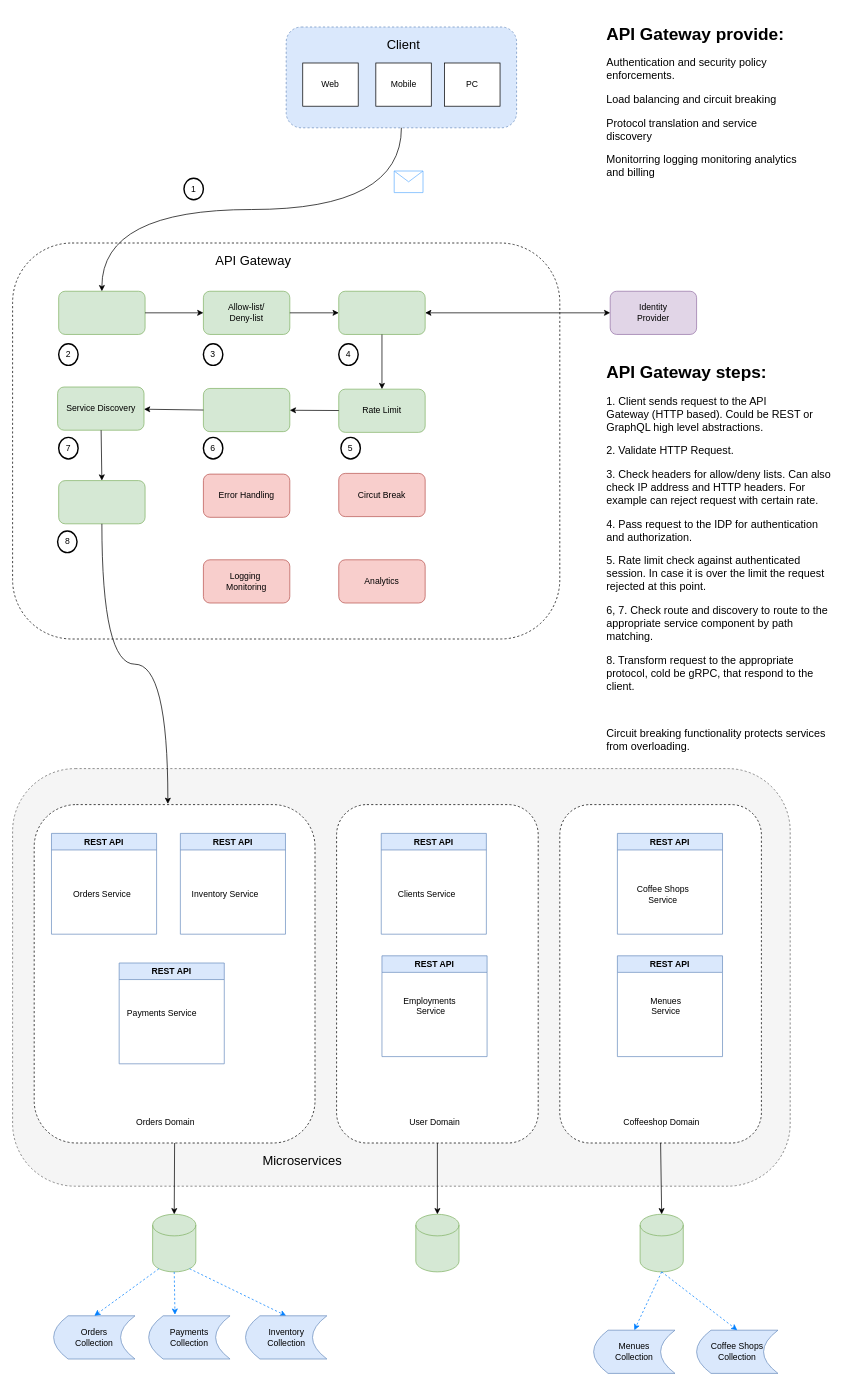
Some shapes in this 846 by 1386 pixel diagram are drawn without their labels. The centre of each missing label's shape, as x and y in pixels:
Authentication Authorization: pixel 381 312
DB Coffe Shop: pixel 661 1243
DB Orders: pixel 174 1243
DB Tenants: pixel 437 1243
Dynamic Routing: pixel 246 410
Http Request: pixel 408 181
Parameter Validator: pixel 101 312
Protocol Conversion: pixel 101 502
